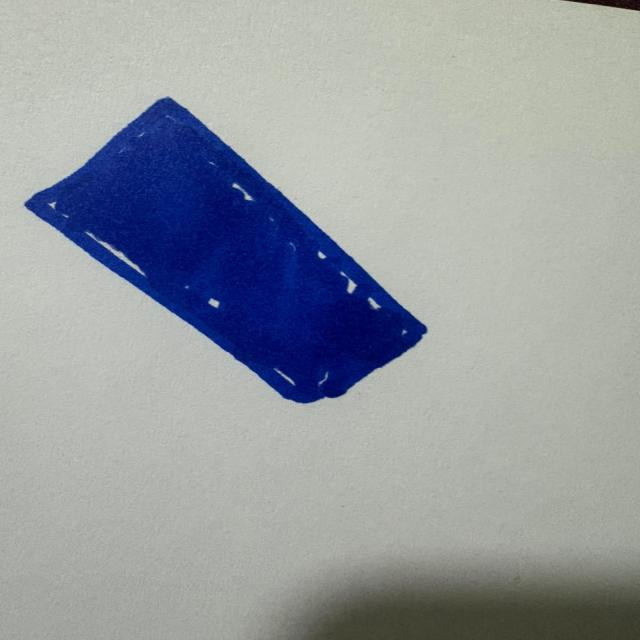Rectangle: (25, 98, 426, 403)
